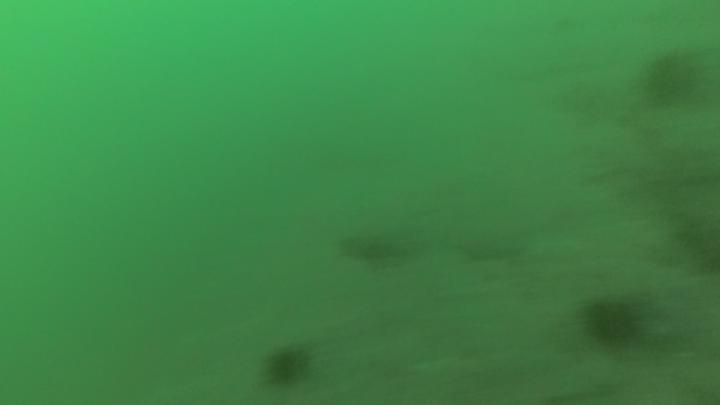echinus: (639, 47, 705, 110), (580, 294, 646, 352), (336, 228, 408, 266), (260, 341, 314, 388)
